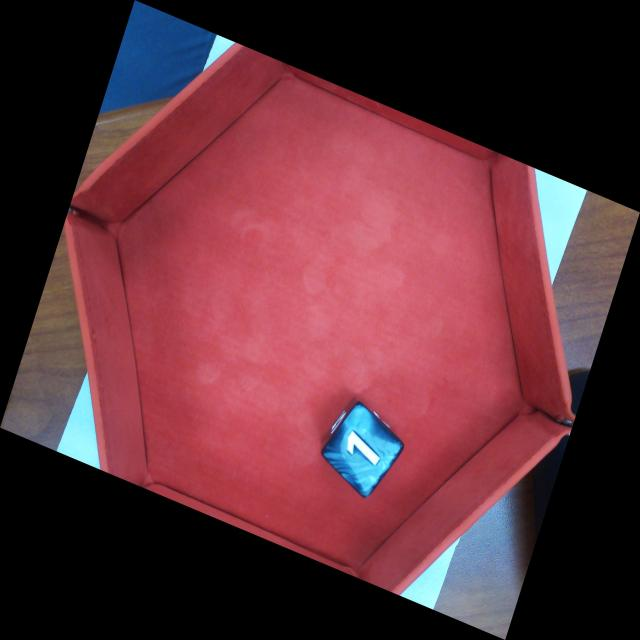dice: (328, 407, 400, 492)
